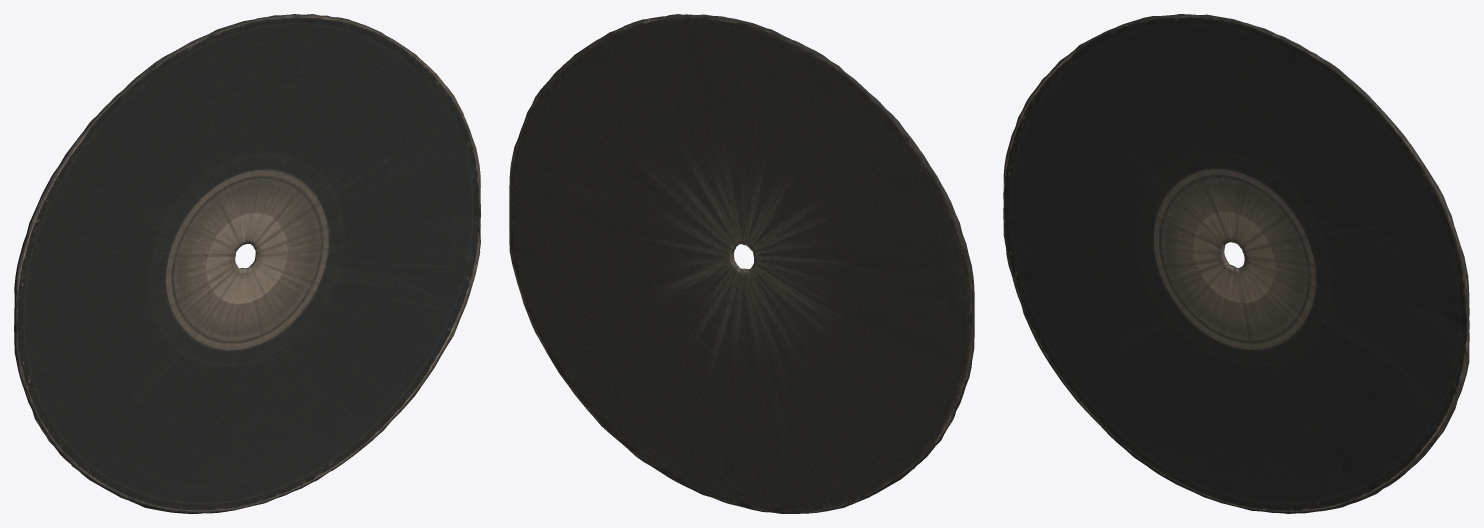
The model's file is Meshy_AI_Worn_Vinyl_Record_0816171015_texture.fbx.
3 views of the same model, side by side, from view 1: azimuth 30°, elevation 25°; view 2: azimuth 150°, elevation 25°; view 3: azimuth 330°, elevation 25° (orthographic).
Parts seen in each view (by area): view 1: mesh_node; view 2: mesh_node; view 3: mesh_node.
Part boxes in pixels (x1,y1,x2,y2): mesh_node: [14, 14, 480, 513]; mesh_node: [509, 14, 974, 513]; mesh_node: [1003, 14, 1469, 513].
Bounding box in the file's own units: 100 × 100 × 1.16.
Materials: 1 (1 with a texture image).
